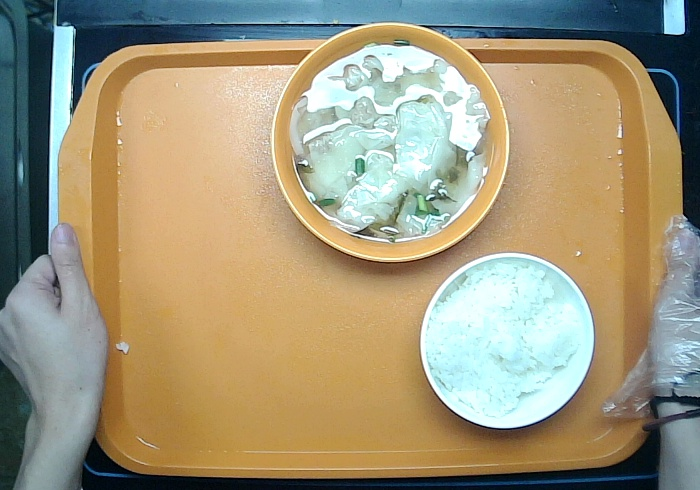NLDX-Fan_Wan: (417, 251, 597, 431)
NLDX-Hun_Tun_Wan: (268, 20, 512, 264)
